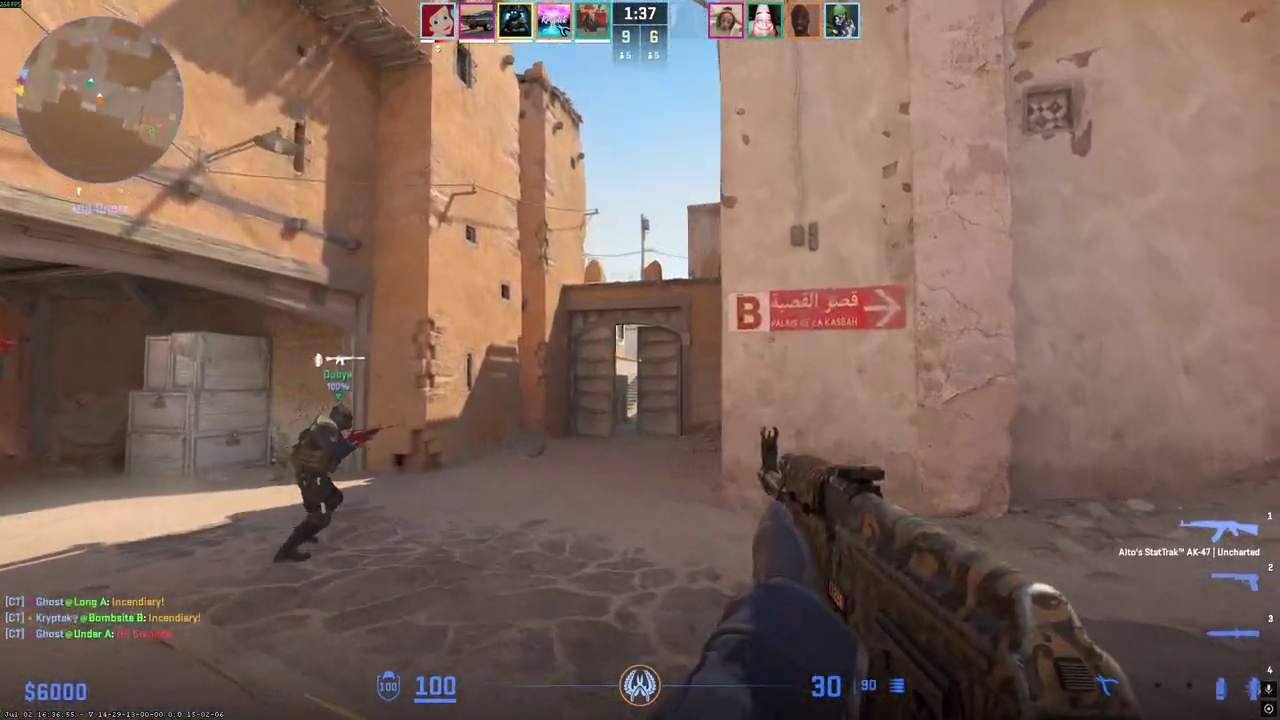CT: (279, 402, 357, 565)
